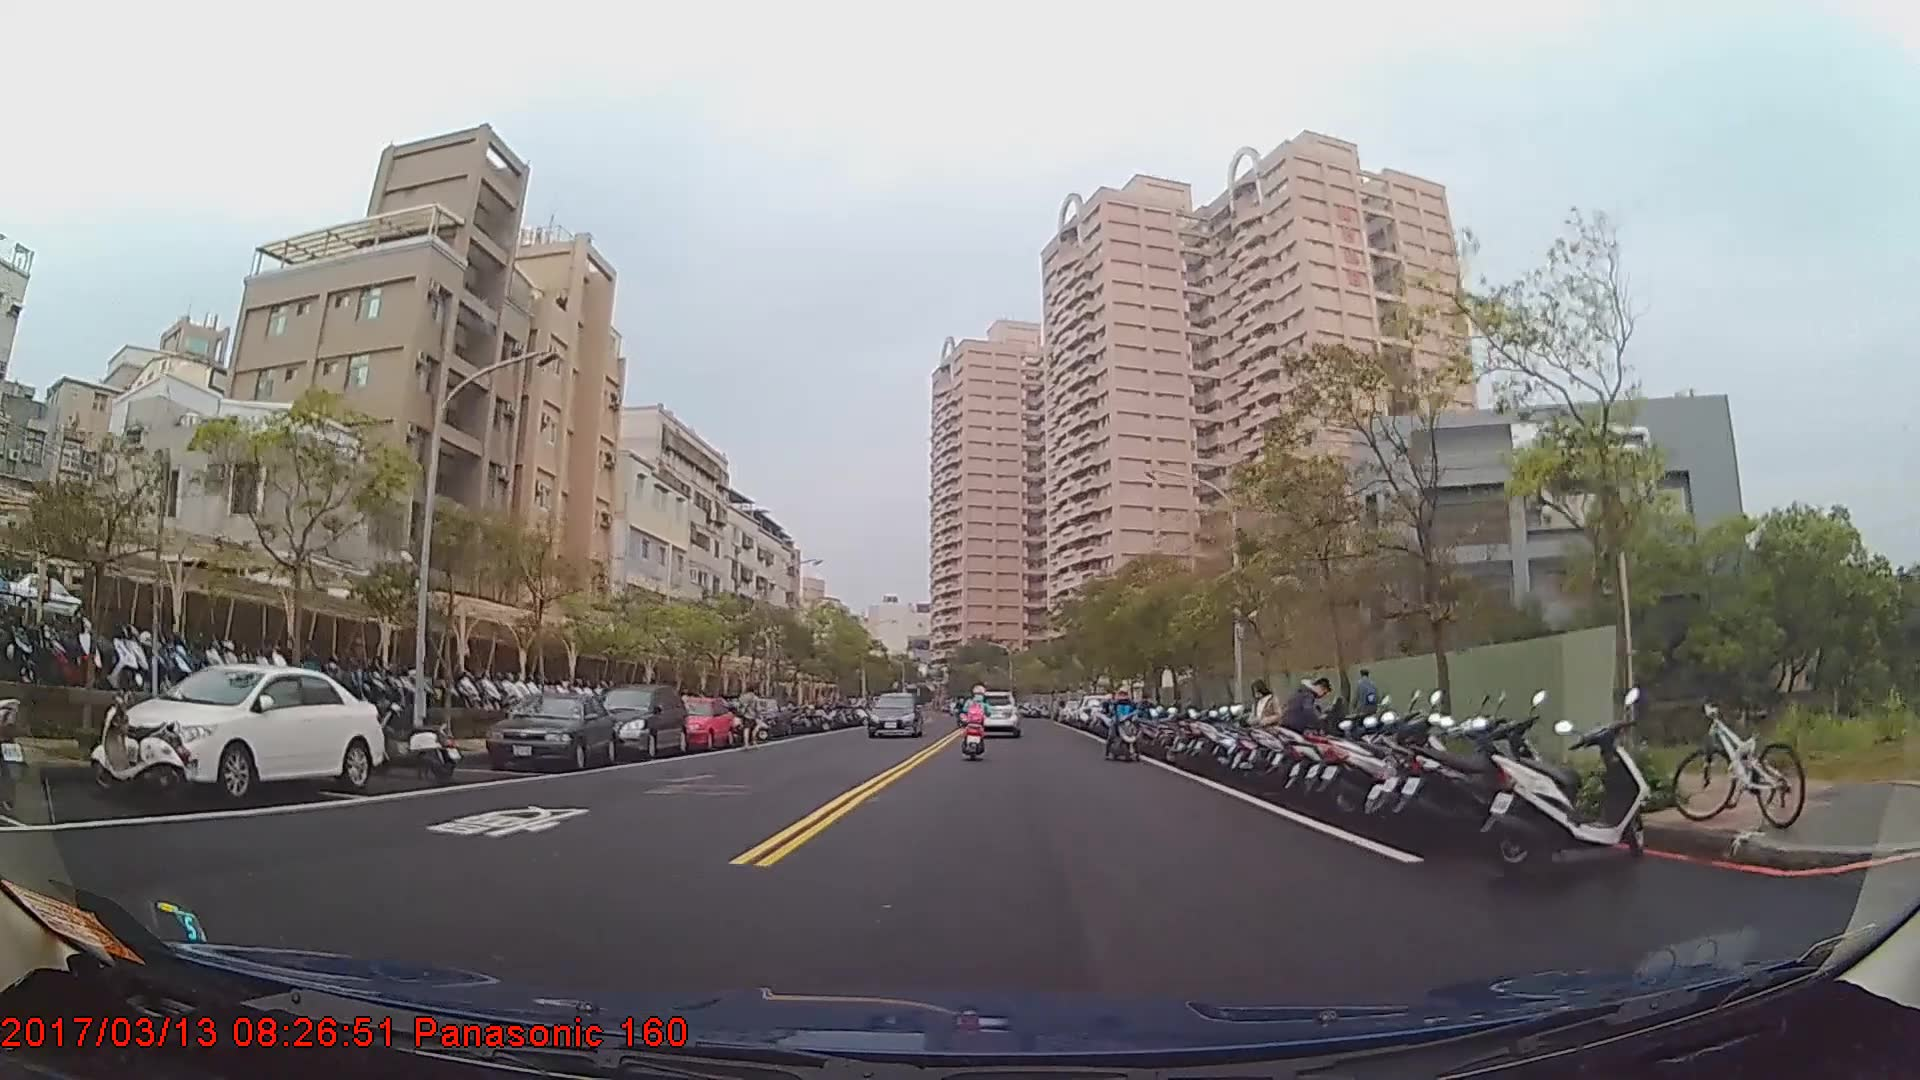pedestrian: (1280, 675, 1336, 791), (1243, 679, 1286, 792), (1351, 669, 1382, 748), (736, 688, 767, 752)
rider: (1104, 686, 1144, 764), (961, 685, 991, 756)
vehicle: (110, 662, 384, 803), (482, 689, 619, 770), (596, 683, 689, 756), (655, 693, 735, 749), (866, 688, 922, 737), (965, 689, 1019, 735)
